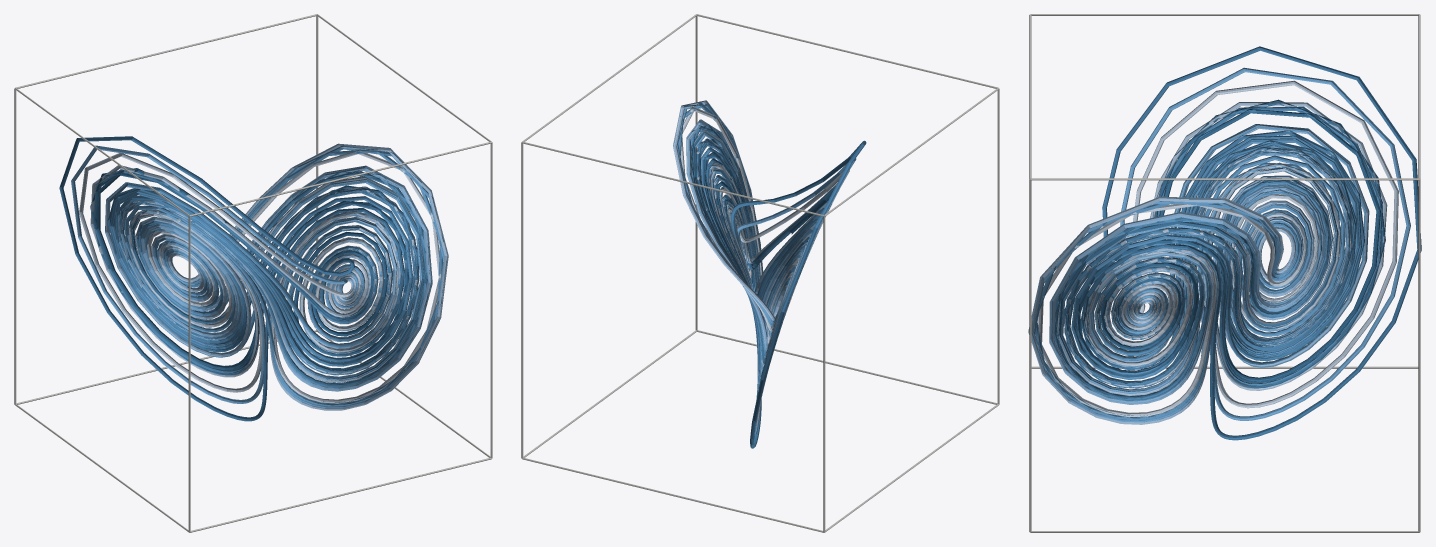
File: lorenz.glb
3 renders of one model, left to right at view 1: azimuth 30°, elevation 25°; view 2: azimuth 150°, elevation 25°; view 3: azimuth 270°, elevation 25°, orthographic. The views are drawn at different scales.
Parts seen in each view (by area): view 1: geometry_0, geometry_1; view 2: geometry_0, geometry_1; view 3: geometry_0, geometry_1.
Part boxes in pixels (box(x1,y1,x2,y2)): geometry_0: box(59, 136, 448, 421); geometry_1: box(14, 14, 492, 532); geometry_0: box(673, 100, 866, 448); geometry_1: box(521, 14, 999, 532); geometry_0: box(1028, 46, 1421, 440); geometry_1: box(1029, 14, 1420, 532).
Bounding box in the file's own units: 0.3016 × 0.3014 × 0.3036.
